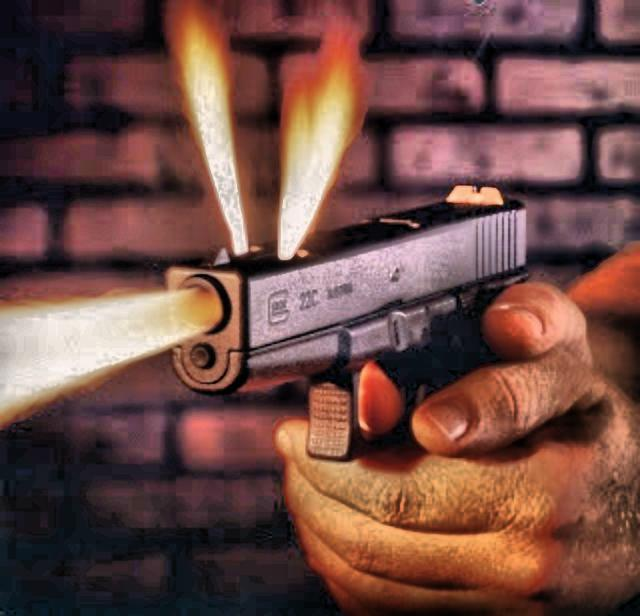pistol: (158, 166, 536, 474)
